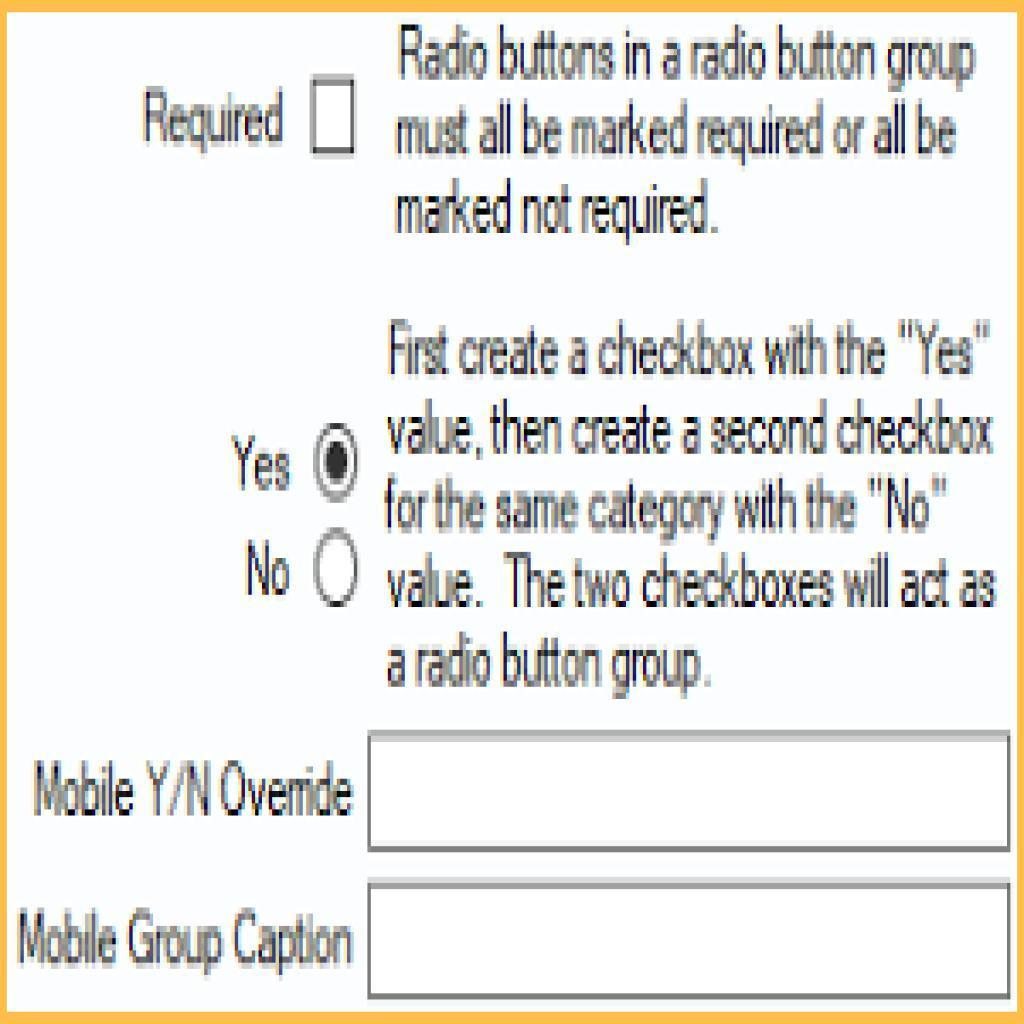checkbox: (310, 79, 357, 151)
input: (370, 734, 1009, 853), (374, 883, 1009, 991)
label: (379, 311, 1011, 699), (393, 16, 987, 242), (14, 895, 356, 980), (24, 755, 356, 828), (136, 85, 286, 153), (226, 430, 294, 497), (241, 529, 297, 603)
radio: (308, 529, 366, 617), (310, 416, 359, 513)
